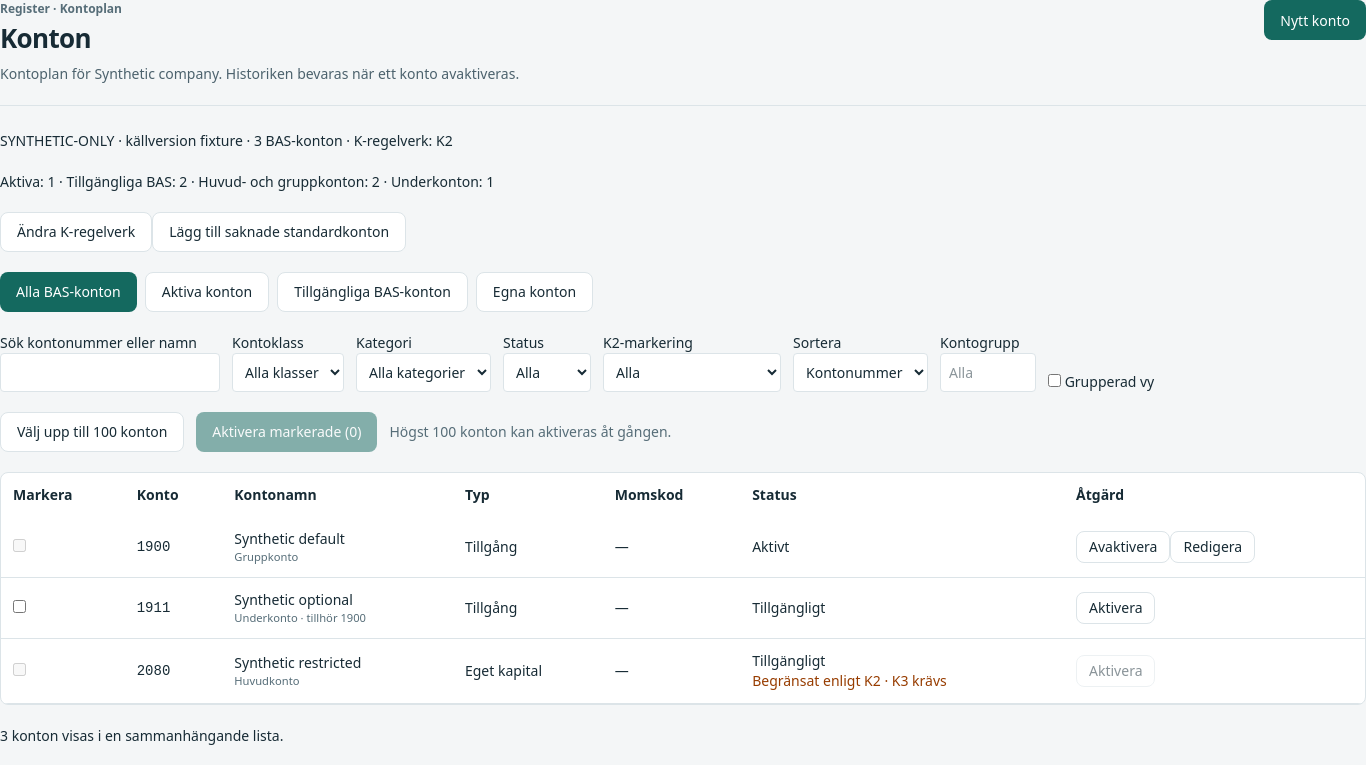
Test case: requires server preview and explicit confirmation before a bulk write
This screenshot has width=1366, height=765.
Expected: the text "Synthetic default" is shown, [234,529,345,548]
Click the button "Tillgängliga BAS-konton": (373, 292) [277,272,468,312]
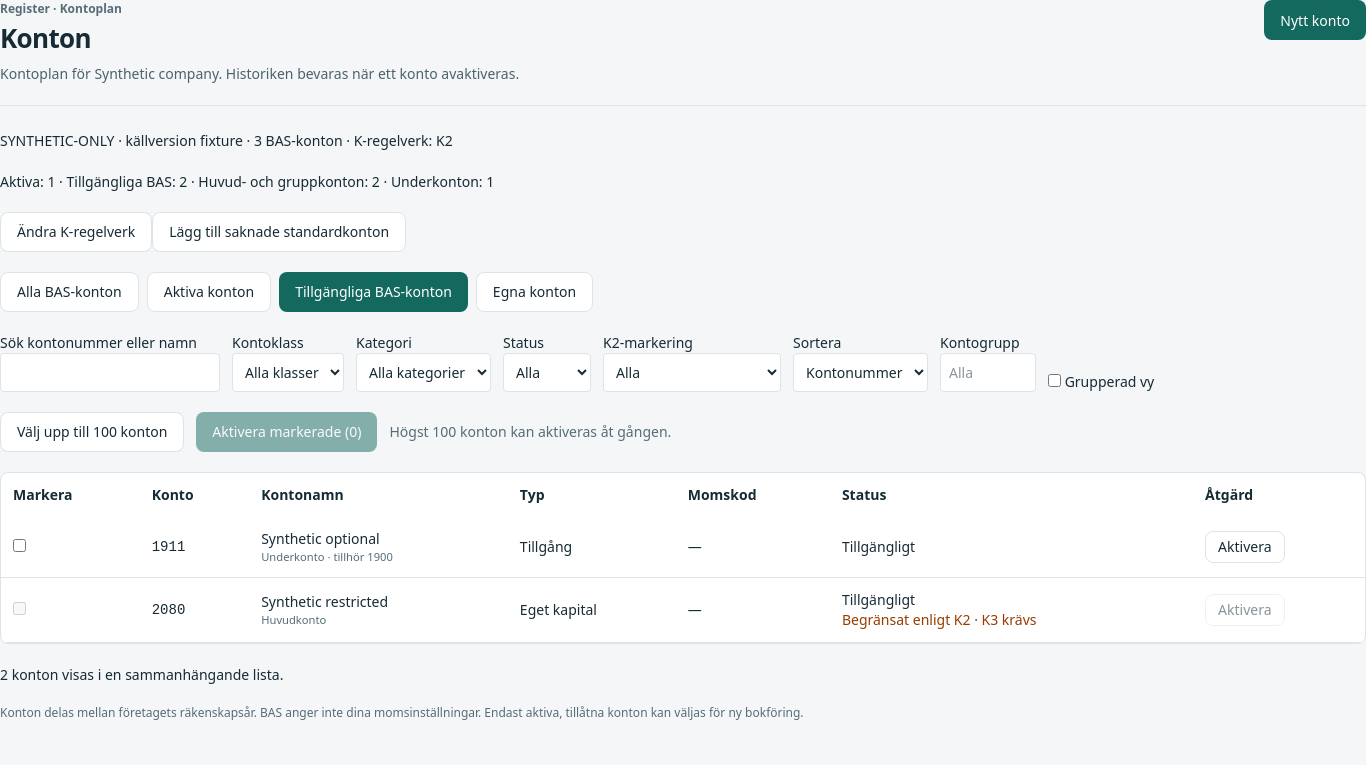
Expected: the text "Synthetic optional" is shown, [261,529,380,548]
Click the checkbox named "Markera konto 1911": (20, 545) [13,539,26,552]
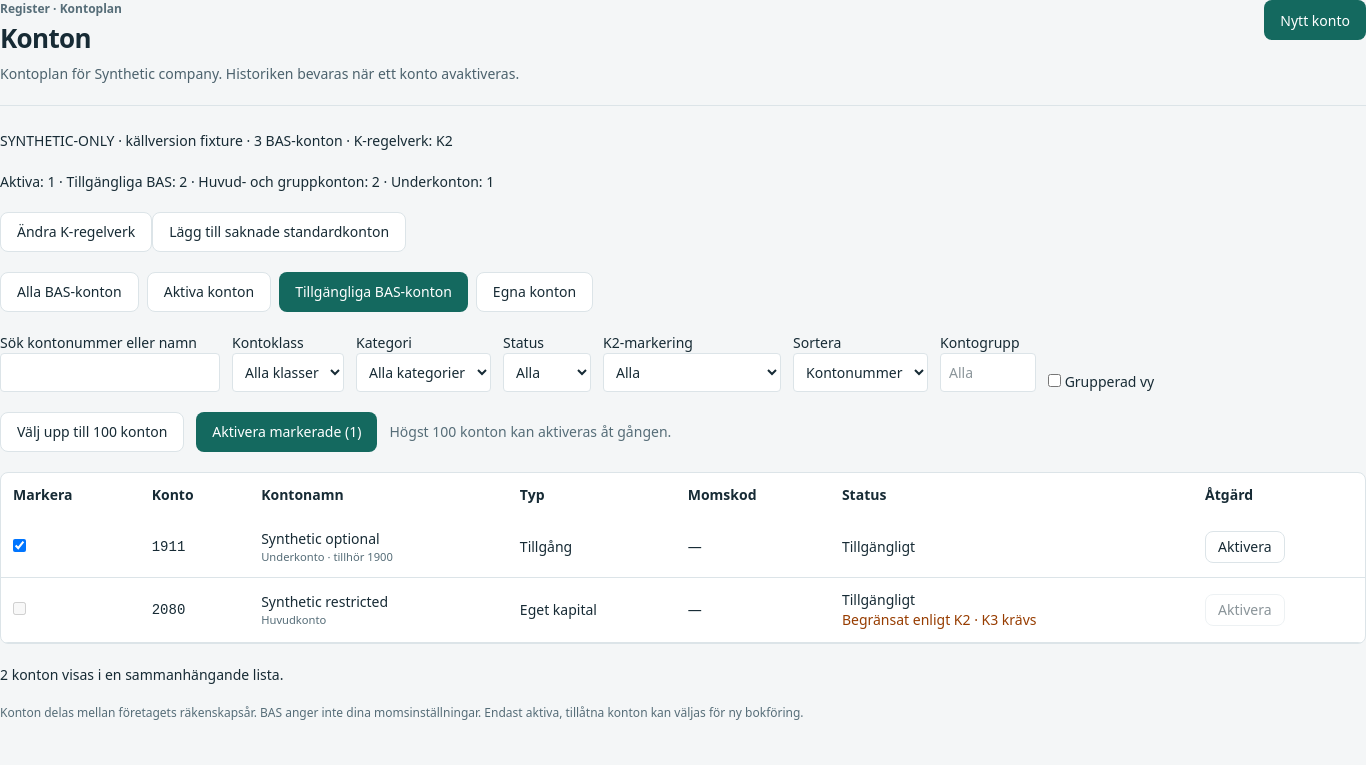
Click the button "Aktivera markerade (1)": (287, 432) [196,412,377,452]
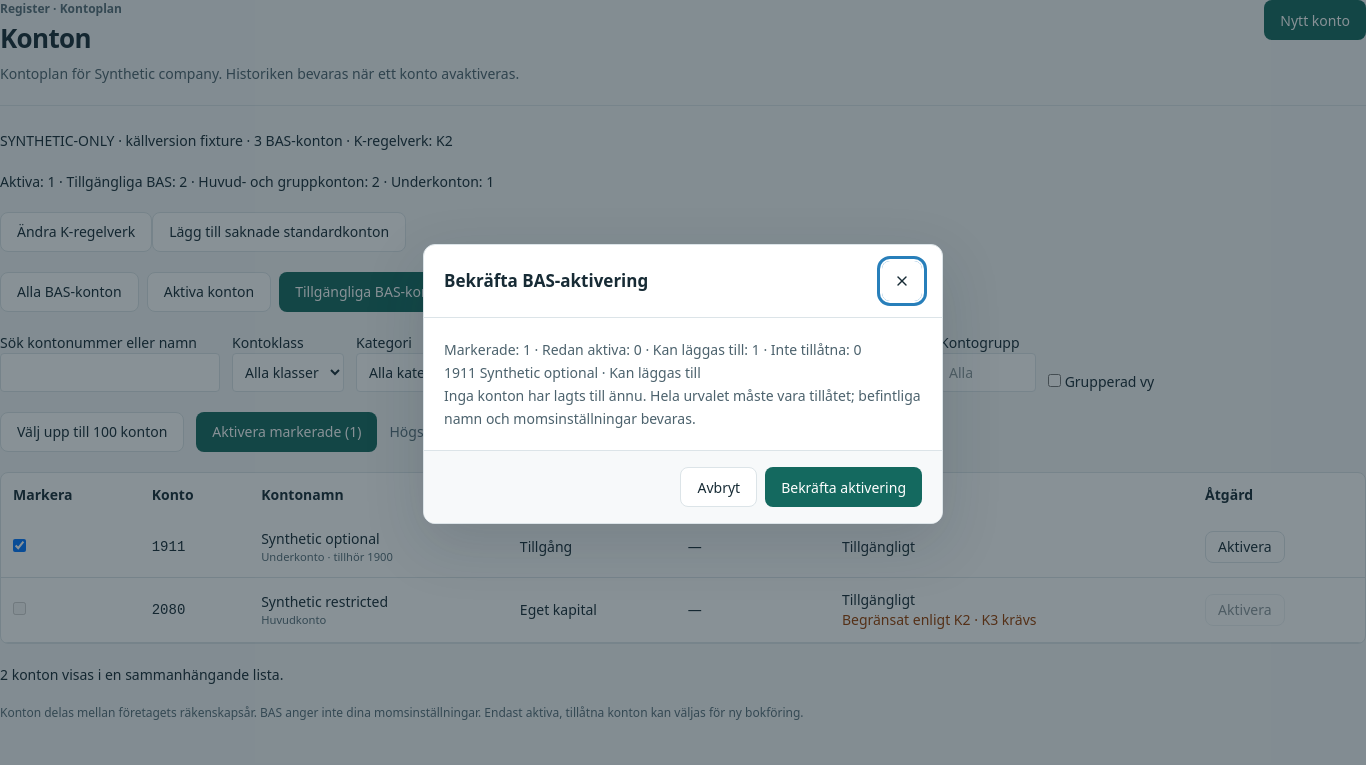
Result: the dialog "Bekräfta BAS-aktivering" is shown at [423,244,943,524]
Result: the text "Kan läggas till: 1" is shown at [444,338,922,361]
Click the button "Bekräfta aktivering": (844, 487) [765,467,922,507]
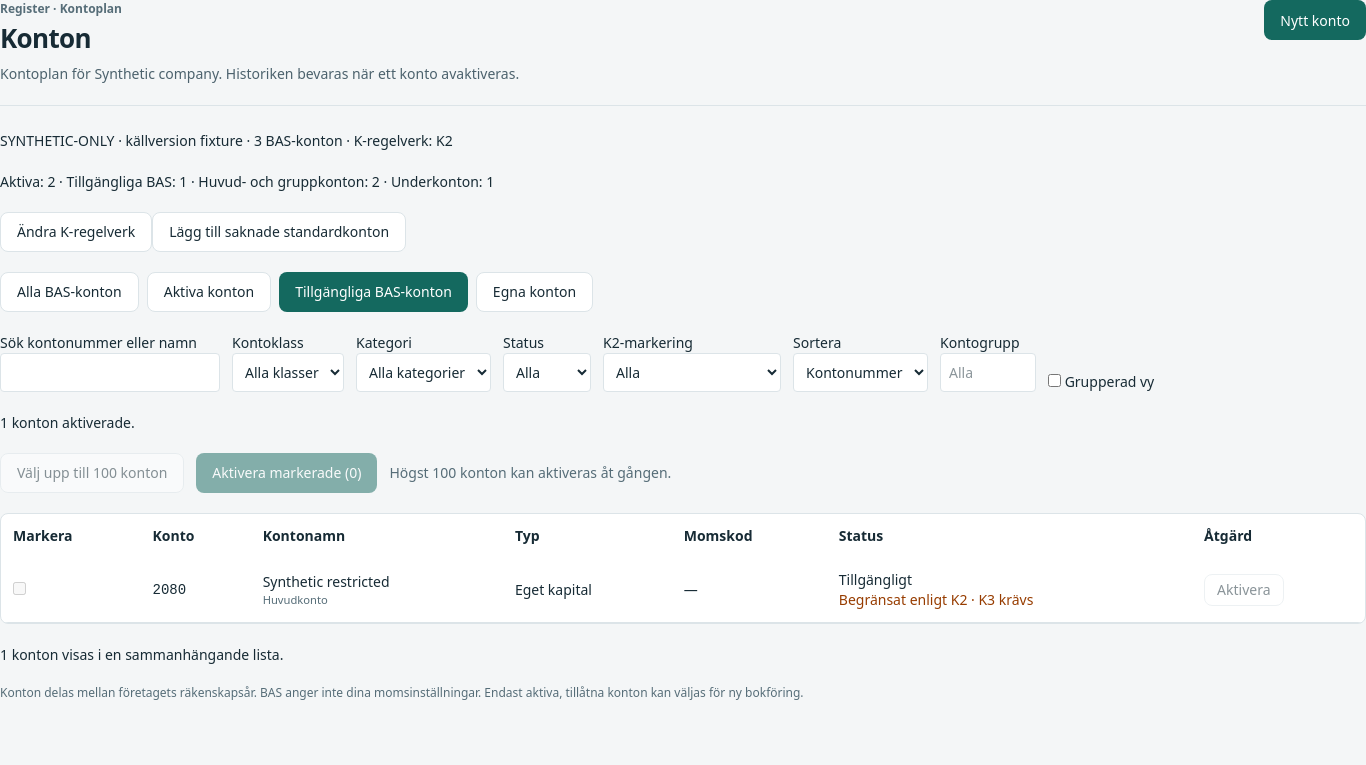
Result: the text "1 konton aktiverade." is shown at [0,413,135,432]
